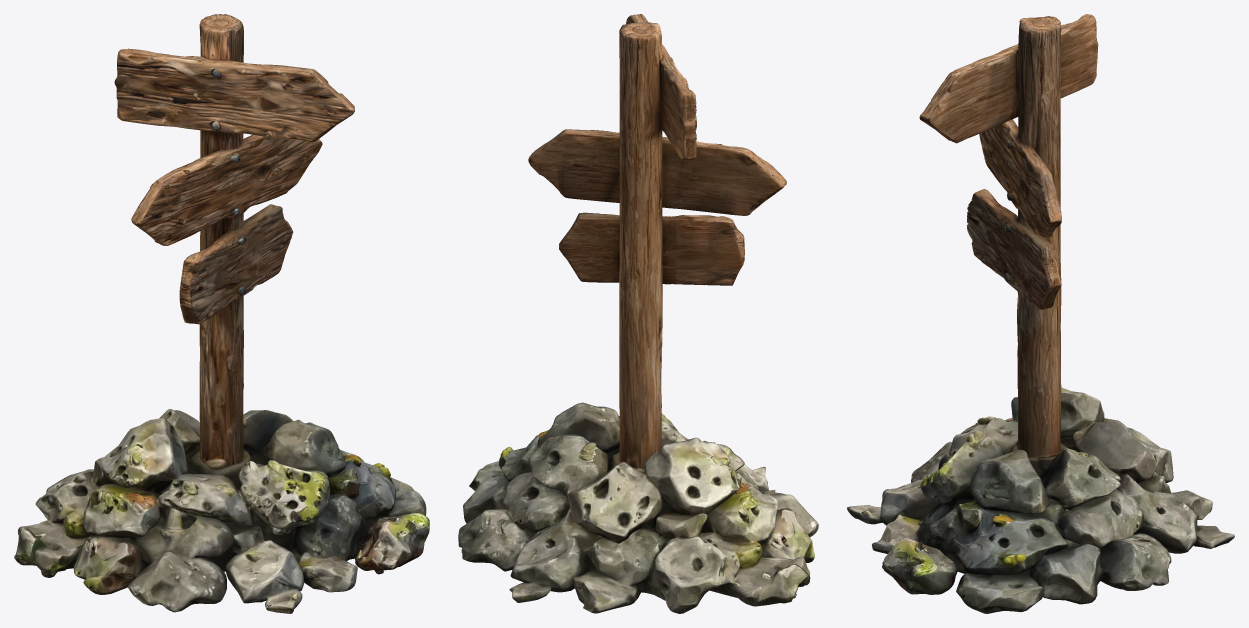
File: signpost.glb
3 renders of one model, left to right at view 1: azimuth 30°, elevation 25°; view 2: azimuth 150°, elevation 25°; view 3: azimuth 270°, elevation 25°, orthographic.
Visible parts, largest first — view 1: node_4aba79e1-9bc8-4060-87b8-64f06deadd10; view 2: node_4aba79e1-9bc8-4060-87b8-64f06deadd10; view 3: node_4aba79e1-9bc8-4060-87b8-64f06deadd10.
Boxes of the visible parts, x1=… form: node_4aba79e1-9bc8-4060-87b8-64f06deadd10: x1=14, y1=14, x2=429, y2=613; node_4aba79e1-9bc8-4060-87b8-64f06deadd10: x1=458, y1=14, x2=818, y2=613; node_4aba79e1-9bc8-4060-87b8-64f06deadd10: x1=847, y1=14, x2=1234, y2=613.
Bounding box in the file's own units: 0.7108 × 0.9802 × 0.6765.
Materials: 1 (1 with a texture image).
